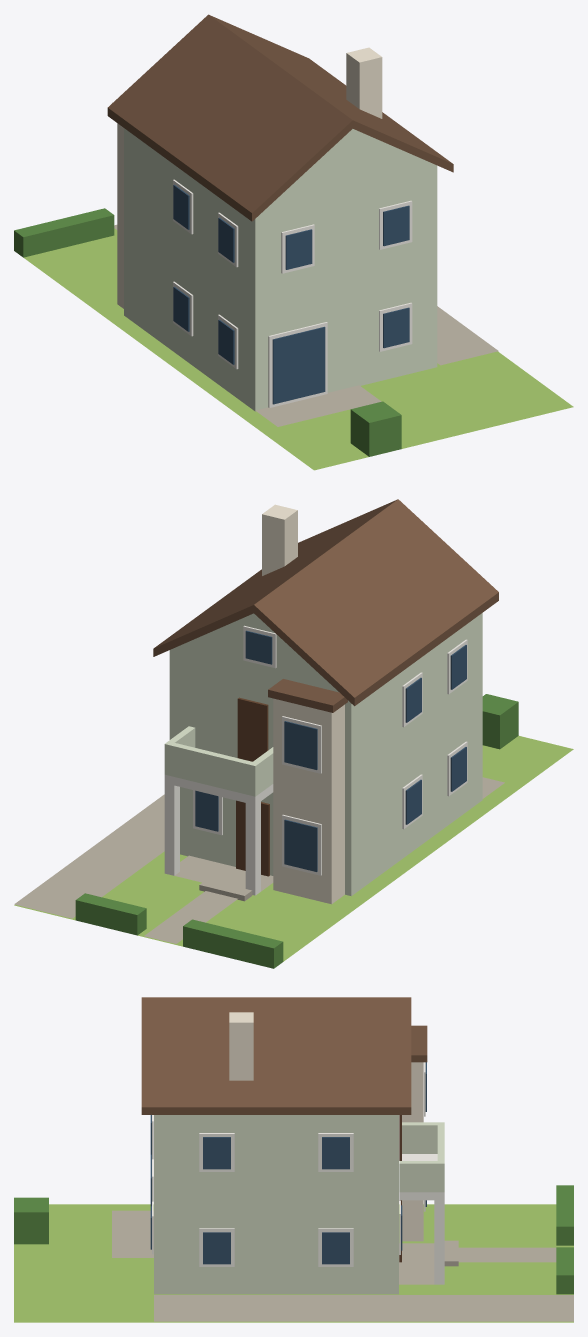
3 views of the same model, one above another, from view 1: azimuth 30°, elevation 25°; view 2: azimuth 150°, elevation 25°; view 3: azimuth 270°, elevation 25° (orthographic). The views are drawn at different scales.
Parts seen in each view (by area): view 1: walls, roof, lawn, window_glass (×8), hedge, tree_spot, patio, chimney, drive, bay, window_frame; view 2: walls, roof, lawn, bay, window_glass (×8), drive, hedge (×2), parapet (×2), door (×2), post (×2), chimney, path (+6 smaller); view 3: walls, roof, lawn, drive, window_glass (×4), parapet (×3), window_frame (×4), hedge (×2), patio, bay, chimney, tree_spot (+5 smaller).
Part boxes in pixels (x1,y1,x2,y2): walls: (124,128,437,411); roof: (107,14,453,221); lawn: (24,228,573,470); window_glass (×8): (173,184,409,404); hedge: (14,208,114,257); tree_spot: (350,401,401,456); patio: (255,385,381,426); chimney: (346,47,382,118); drive: (437,306,498,365); bay: (117,123,123,308); window_frame: (268,322,327,407); walls: (169,613,482,896); roof: (153,499,498,706); lawn: (14,736,573,961); bay: (273,698,344,904); window_glass (×8): (195,630,466,871); drive: (14,794,164,918); hedge (×2): (75,893,283,968); parapet (×2): (164,741,273,796); door (×2): (236,697,269,876); post (×2): (164,783,260,895); chimney: (262,504,297,575); path: (144,891,237,943); walls: (154,1115,398,1294); roof: (141,997,411,1114); lawn: (14,1204,573,1322); drive: (154,1295,573,1321); window_glass (×4): (203,1137,349,1264); parapet (×3): (399,1122,444,1192); window_frame (×4): (199,1133,353,1266); hedge (×2): (556,1185,573,1294); patio: (112,1210,153,1257); bay: (402,1062,423,1241); chimney: (229,1012,253,1080); tree_spot: (14,1197,48,1244).
Size of the model in its own units: 8 by 8.37 by 16.
